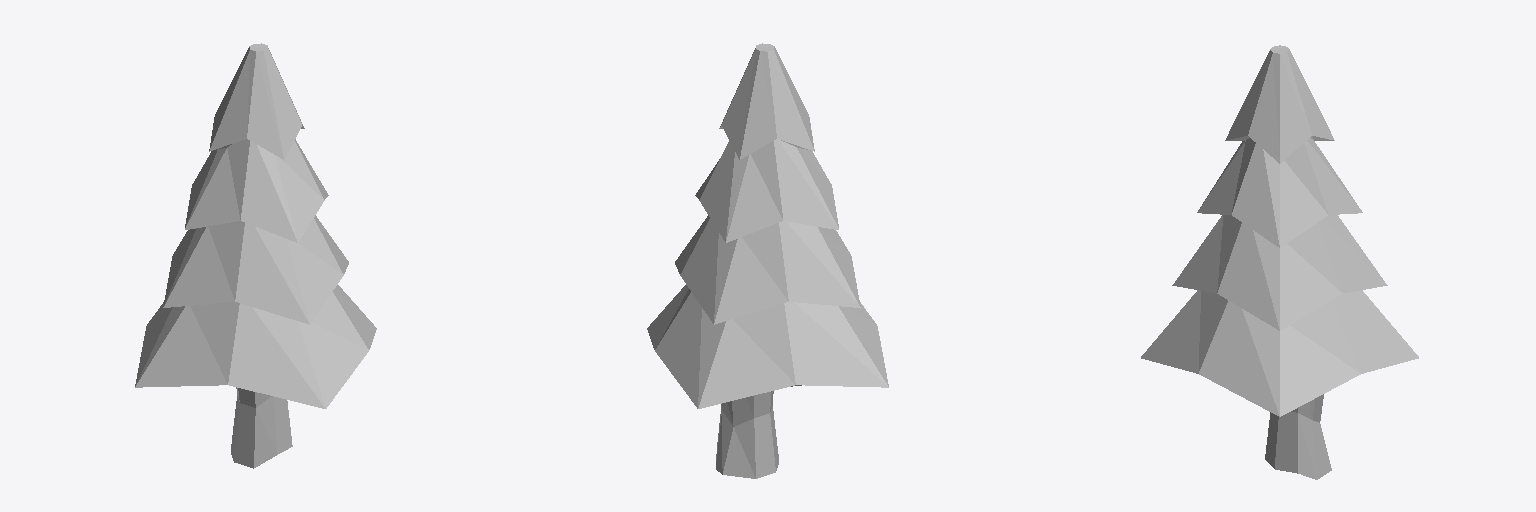
File: arvolitoblend.obj
3 renders of one model, left to right at view 1: azimuth 30°, elevation 25°; view 2: azimuth 150°, elevation 25°; view 3: azimuth 270°, elevation 25°, orthographic.
Visible parts, largest first — view 1: Cylinder; view 2: Cylinder; view 3: Cylinder.
Part boxes in pixels (x1,y1,x2,y2): Cylinder: (135, 43, 376, 468); Cylinder: (647, 43, 888, 478); Cylinder: (1141, 45, 1418, 479).
Bounding box in the file's own units: 5.8 × 9.5 × 5.8.